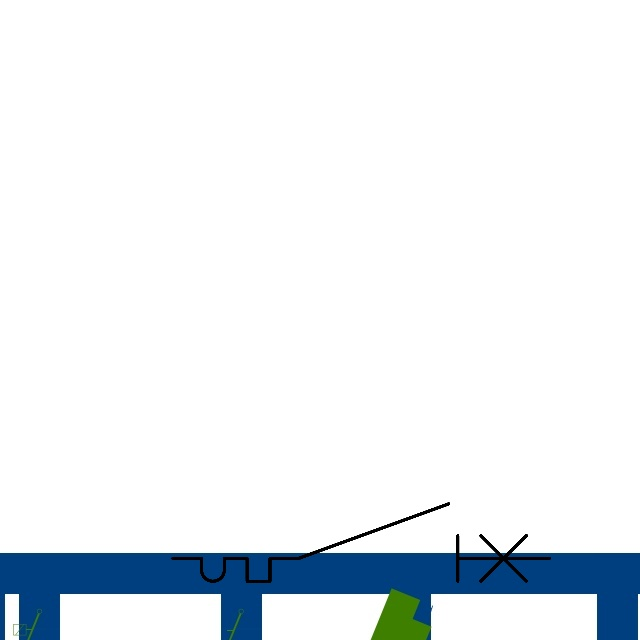interruptor_termomagnetico: (163, 494, 559, 591)
